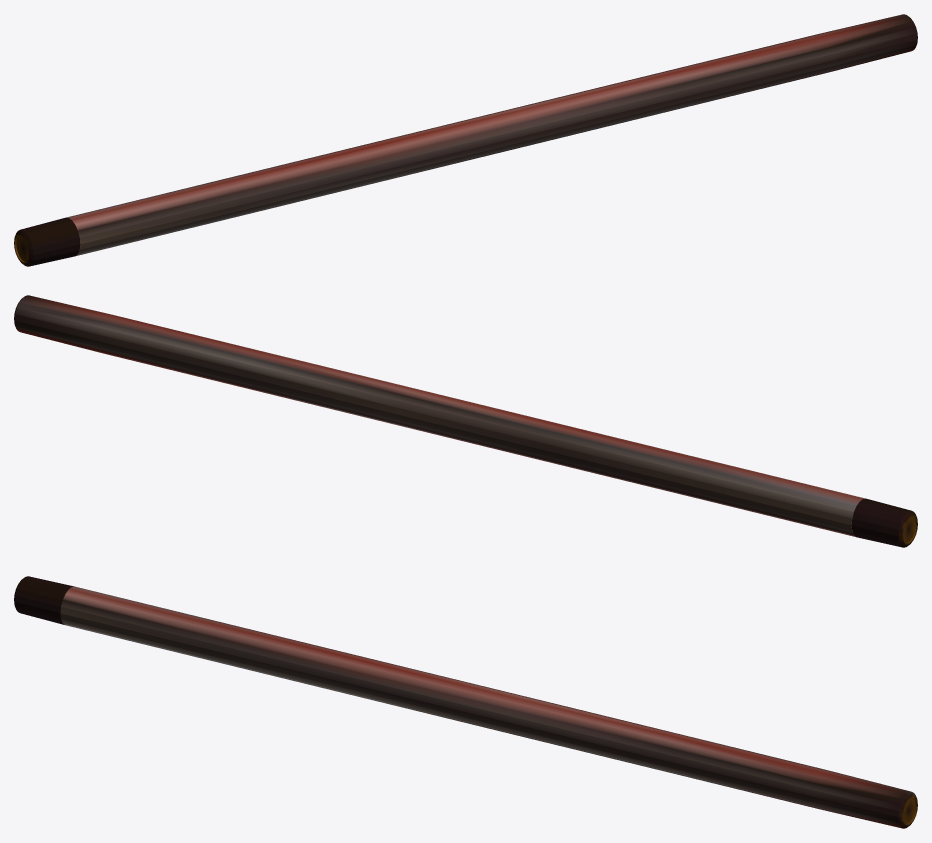
The model's file is duster_with_inlaid_mop_chrysanthemun_scr_7eb60368.glb.
3 renders of one model, top to bottom at view 1: azimuth 30°, elevation 25°; view 2: azimuth 150°, elevation 25°; view 3: azimuth 330°, elevation 25°, orthographic.
Visible parts, largest first — view 1: 24RE0043_Low_1001_0; view 2: 24RE0043_Low_1001_0; view 3: 24RE0043_Low_1001_0.
Boxes of the visible parts, <box> form: 24RE0043_Low_1001_0: <box>14,14,917,266</box>; 24RE0043_Low_1001_0: <box>14,295,917,547</box>; 24RE0043_Low_1001_0: <box>14,576,917,828</box>.
Bounding box in the file's own units: 0.4167 × 0.016 × 0.0162.
